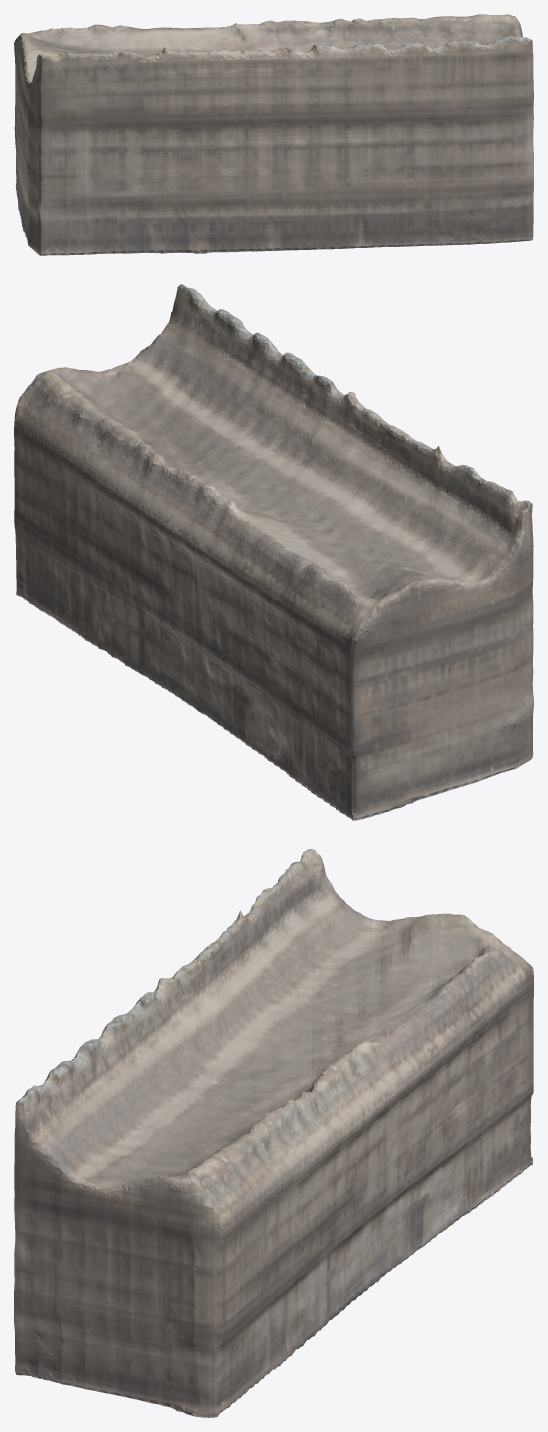
The model's file is parisino2.glb.
3 views of the same model, one above another, from view 1: azimuth 30°, elevation 25°; view 2: azimuth 150°, elevation 25°; view 3: azimuth 270°, elevation 25° (orthographic). The views are drawn at different scales.
Parts seen in each view (by area): view 1: world; view 2: world; view 3: world.
Boxes of the visible parts, bbox=[...] form: world: bbox=[14, 14, 533, 255]; world: bbox=[14, 284, 533, 820]; world: bbox=[14, 849, 533, 1417].
Size of the model in its own units: 1.99 by 0.8929 by 1.49.
